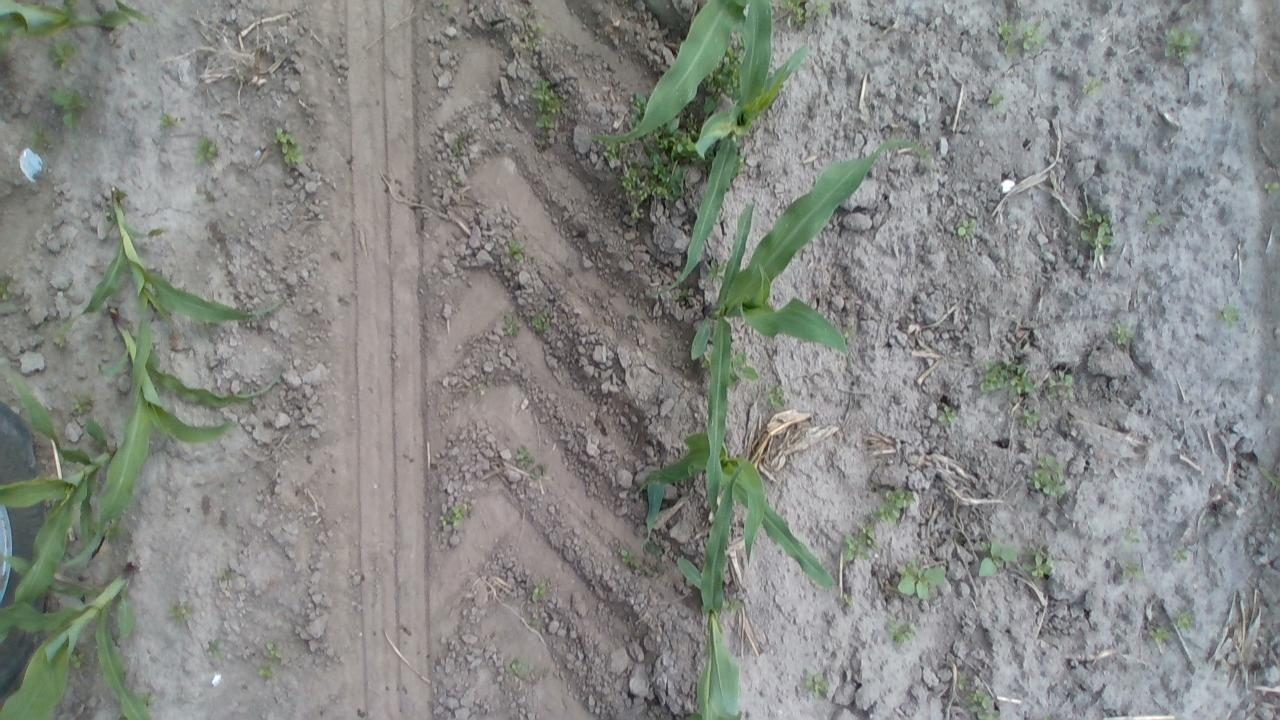Maize: (688, 142, 929, 514), (65, 305, 284, 574), (60, 187, 289, 417), (650, 0, 807, 300), (0, 376, 116, 646), (638, 432, 838, 588), (0, 548, 153, 720), (594, 0, 754, 144), (677, 466, 743, 720), (0, 0, 129, 53), (97, 0, 154, 26)
Weeds: (641, 112, 714, 165), (623, 161, 688, 219), (700, 34, 744, 112), (1028, 452, 1070, 498), (898, 558, 946, 598), (980, 360, 1033, 393), (1078, 207, 1113, 256), (842, 521, 882, 562), (53, 89, 89, 130), (874, 490, 914, 526), (980, 540, 1017, 578), (964, 687, 1004, 720), (1164, 25, 1196, 60), (532, 80, 564, 114), (728, 350, 758, 386), (49, 39, 82, 70), (275, 127, 303, 163), (516, 444, 542, 479), (1019, 18, 1047, 50), (781, 0, 812, 27), (1046, 369, 1073, 400), (1022, 550, 1053, 576), (452, 126, 478, 157), (628, 91, 651, 126), (804, 666, 829, 698), (999, 19, 1020, 56), (643, 542, 666, 572), (890, 618, 916, 644), (619, 548, 647, 572), (1016, 404, 1042, 428), (1120, 558, 1145, 580), (442, 505, 468, 526), (1111, 322, 1133, 346), (168, 602, 192, 624), (196, 138, 216, 162), (720, 596, 746, 614), (600, 142, 626, 160), (1258, 466, 1280, 487), (30, 127, 51, 149), (1220, 306, 1240, 328), (1120, 527, 1140, 549), (68, 648, 90, 668), (532, 312, 551, 334), (957, 218, 977, 238), (768, 385, 784, 410), (524, 32, 544, 52), (1082, 78, 1104, 96), (504, 240, 524, 259), (207, 638, 224, 660), (70, 395, 92, 412), (0, 272, 13, 300), (503, 314, 518, 338), (1148, 626, 1168, 644), (735, 154, 751, 176), (708, 259, 724, 281), (938, 405, 956, 424), (1175, 609, 1191, 630), (103, 524, 124, 540), (506, 659, 528, 674), (265, 642, 283, 659), (954, 673, 970, 691), (532, 581, 548, 599), (701, 350, 714, 372), (672, 286, 692, 300), (987, 90, 1004, 106), (52, 334, 68, 350), (138, 690, 154, 706), (814, 0, 832, 14), (1264, 181, 1280, 195), (536, 115, 556, 126), (1173, 549, 1187, 563), (104, 204, 116, 220), (845, 324, 857, 340), (158, 114, 170, 129), (258, 664, 272, 676), (1146, 214, 1162, 224), (116, 189, 128, 202), (844, 593, 854, 606), (62, 0, 78, 8), (536, 137, 548, 146), (218, 572, 230, 580), (442, 1, 450, 12), (536, 22, 544, 31), (1044, 715, 1055, 720), (118, 714, 127, 720)
